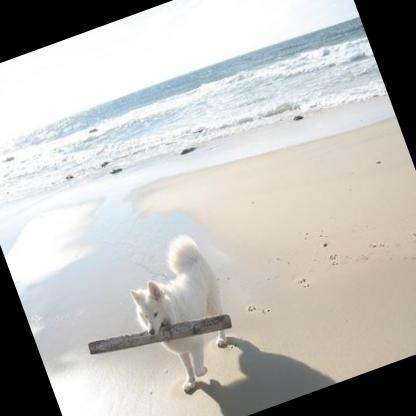Samoyed: (115, 230, 250, 398)
